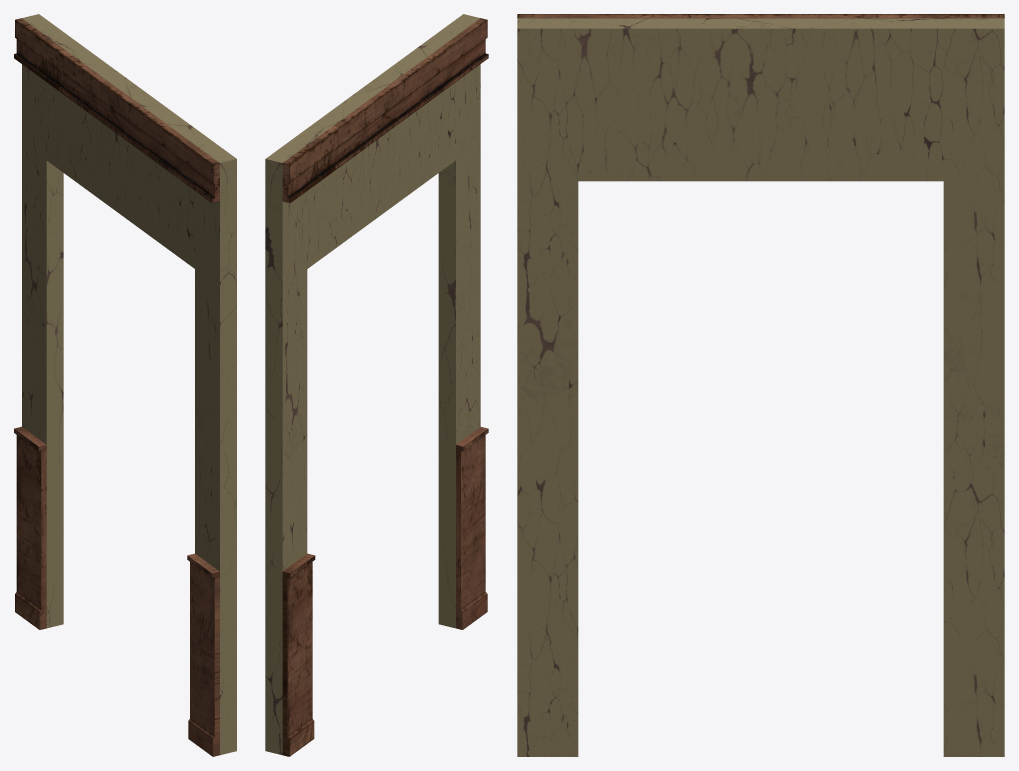
File: Wall_2m_Doorway_A2.fbx
3 views of the same model, side by side, from view 1: azimuth 30°, elevation 25°; view 2: azimuth 150°, elevation 25°; view 3: azimuth 270°, elevation 25° (orthographic). The views are drawn at different scales.
Visible parts, largest first — view 1: Wall_2m_Doorway_A.001; view 2: Wall_2m_Doorway_A.001; view 3: Wall_2m_Doorway_A.001.
Part boxes in pixels (bbox=[...]): Wall_2m_Doorway_A.001: bbox=[14, 14, 236, 756]; Wall_2m_Doorway_A.001: bbox=[265, 14, 488, 756]; Wall_2m_Doorway_A.001: bbox=[517, 14, 1004, 756].
Size of the model in its own units: 0.1458 by 3.3 by 2.
